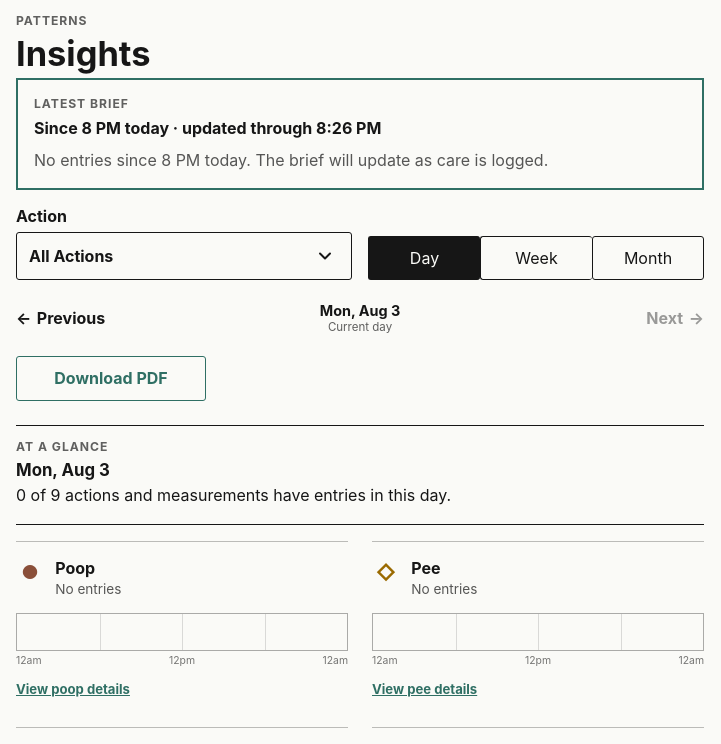
Test: Insights screen › navigates to a past period and returns to today
Click the button "← Previous" at (61, 318), box [16,296,105,340]
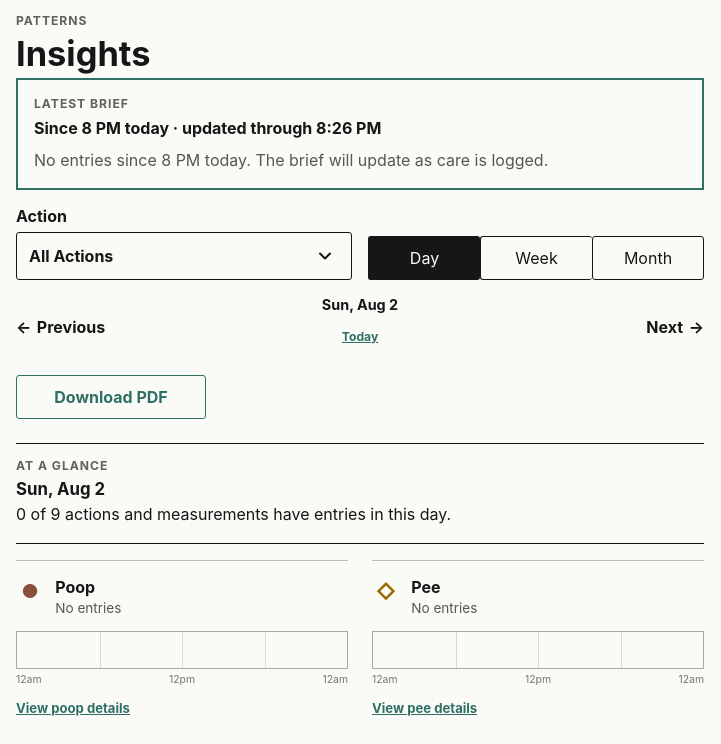
Result: the button with class "next-period" is enabled at [646,305,704,349]
Result: the button "Today" is shown
Click the button "Today" at (360, 337), box [335,315,385,359]
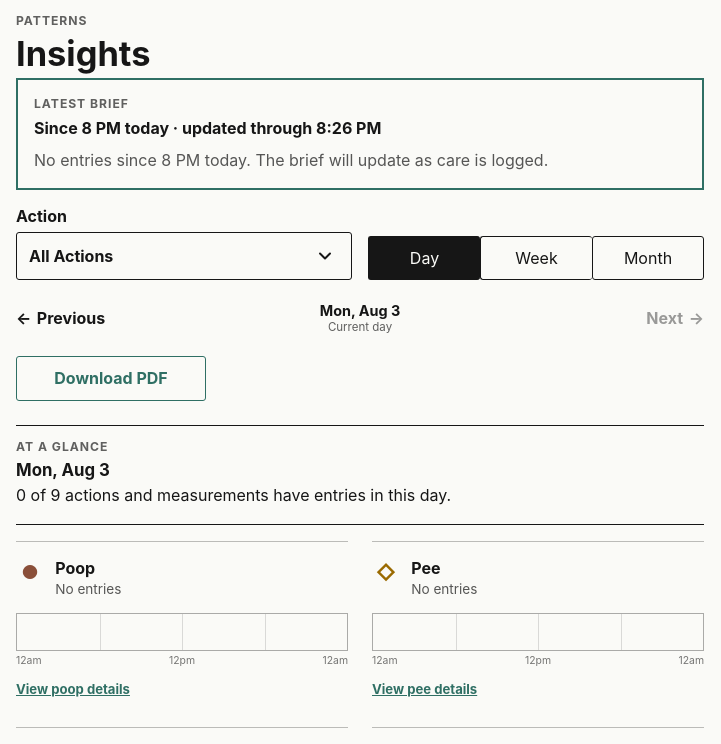
Result: the button with class "next-period" is disabled at [646,296,704,340]
